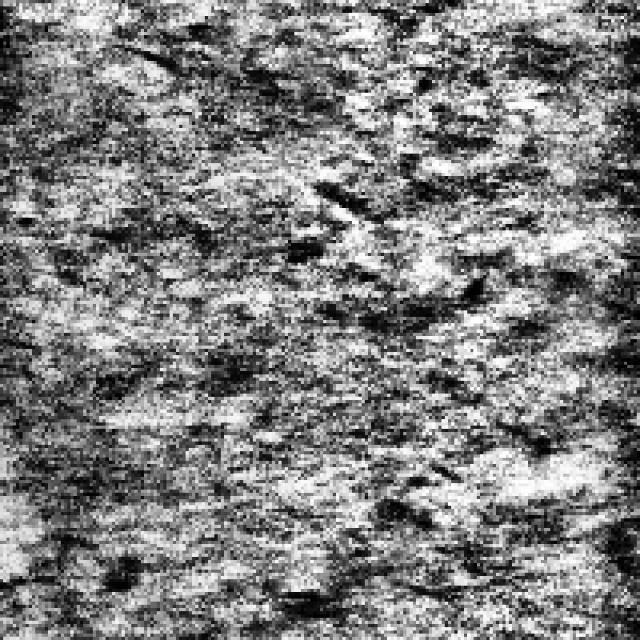Crazing: (256, 99, 435, 330)
